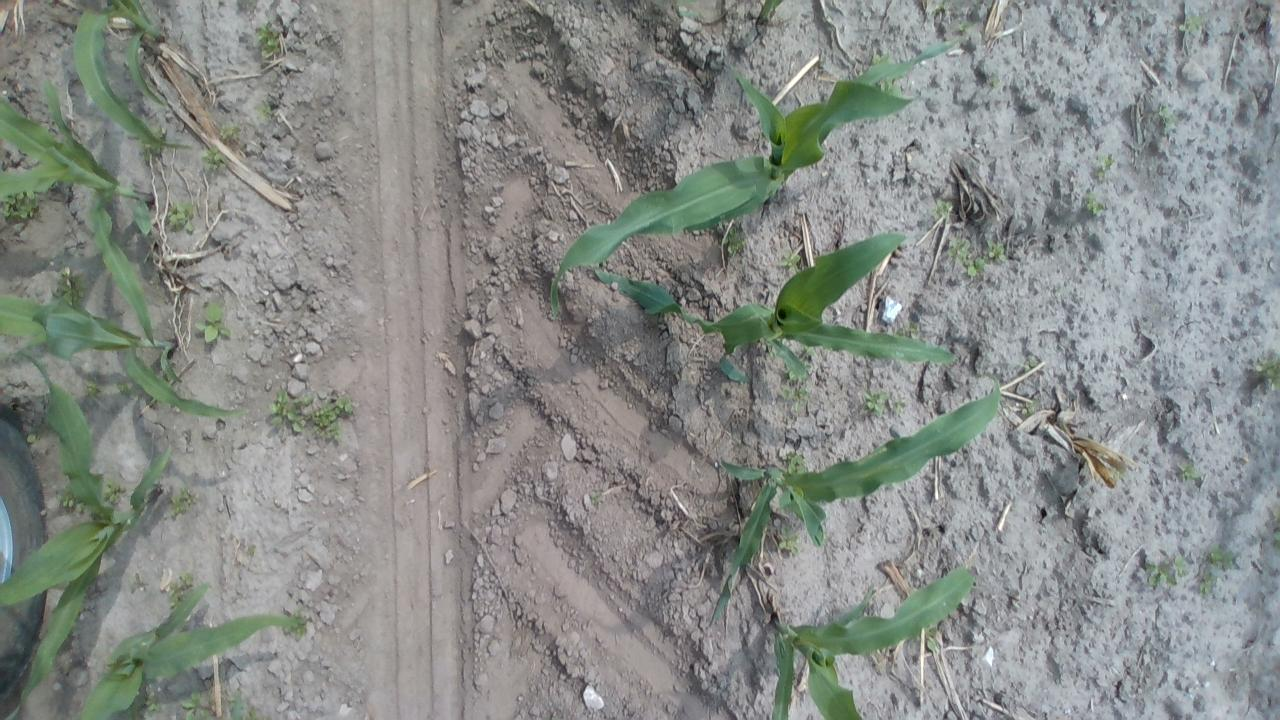Maize: (546, 32, 968, 317), (702, 378, 1006, 628), (0, 348, 176, 720), (585, 229, 963, 379), (0, 74, 174, 348), (66, 580, 308, 720), (0, 290, 252, 424), (766, 563, 978, 720), (74, 0, 180, 156), (754, 0, 789, 28)
Weeds: (268, 384, 356, 446), (180, 686, 274, 720), (946, 230, 1012, 278), (864, 50, 910, 96), (50, 266, 96, 312), (1140, 552, 1190, 591), (190, 303, 234, 347), (254, 21, 292, 64), (858, 390, 908, 422), (157, 201, 202, 236), (1246, 349, 1280, 392), (0, 187, 43, 219), (165, 573, 196, 616), (164, 487, 198, 520), (52, 489, 86, 522), (716, 222, 747, 256), (1206, 541, 1236, 573), (1195, 568, 1225, 600), (1176, 11, 1214, 36), (776, 520, 801, 558), (280, 610, 310, 640), (138, 686, 168, 716), (200, 147, 232, 175), (1092, 150, 1118, 184), (1150, 102, 1176, 136), (916, 624, 942, 658), (783, 377, 816, 403), (924, 196, 959, 218), (1266, 498, 1280, 550), (80, 377, 105, 406), (218, 122, 248, 146), (1084, 194, 1110, 221), (254, 98, 277, 128), (98, 478, 125, 503), (776, 250, 806, 272), (896, 321, 930, 340), (1176, 460, 1201, 484), (780, 451, 804, 474), (114, 380, 136, 401), (1016, 397, 1038, 418), (797, 344, 820, 363), (1016, 354, 1038, 373), (584, 488, 605, 506), (954, 20, 974, 38), (24, 429, 38, 448)
